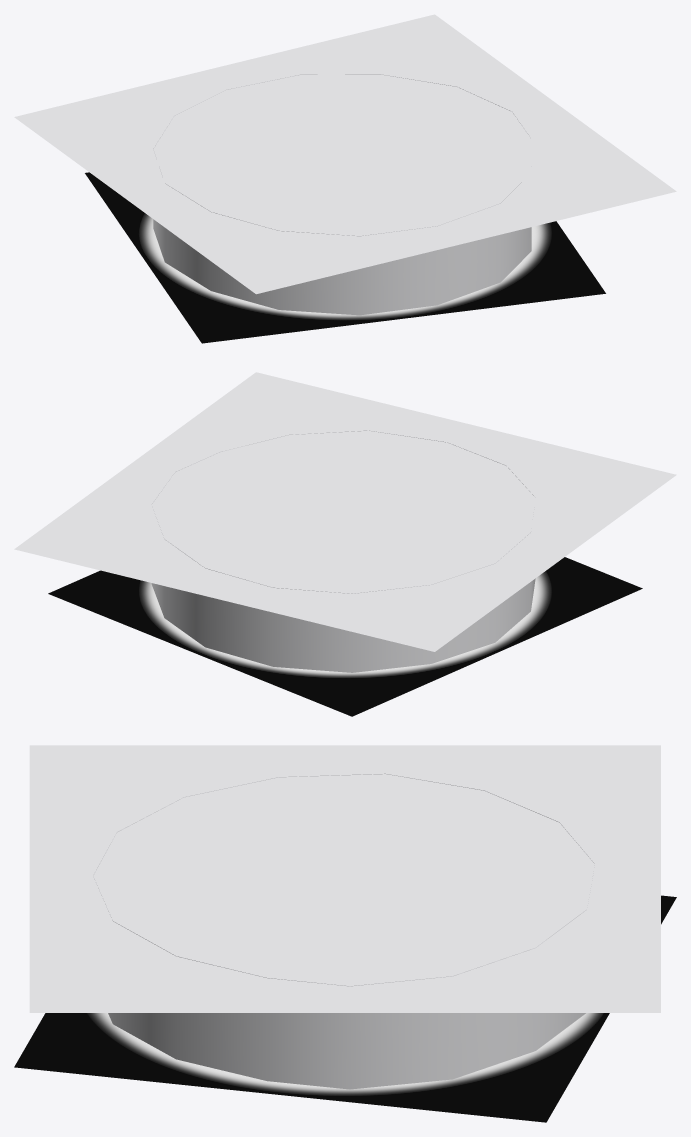
Rendered from Showroom_Environment.fbx.
The picture shows the model from 3 angles, top to bottom: view 1: azimuth 30°, elevation 25°; view 2: azimuth 150°, elevation 25°; view 3: azimuth 270°, elevation 25°; orthographic projection. The views are drawn at different scales.
Parts seen in each view (by area): view 1: Showroom_Ceiling, Showroom_Floor, Showroom_CurtainWall; view 2: Showroom_Ceiling, Showroom_Floor, Showroom_CurtainWall; view 3: Showroom_Ceiling, Showroom_CurtainWall, Showroom_Floor.
Part boxes in pixels (left/top/right/bottom): Showroom_Ceiling: left=14, top=14, right=676, bottom=294; Showroom_Floor: left=85, top=172, right=605, bottom=343; Showroom_CurtainWall: left=153, top=74, right=531, bottom=315; Showroom_Ceiling: left=14, top=372, right=676, bottom=651; Showroom_Floor: left=48, top=557, right=642, bottom=716; Showroom_CurtainWall: left=151, top=430, right=535, bottom=672; Showroom_Ceiling: left=29, top=745, right=660, bottom=1012; Showroom_CurtainWall: left=94, top=773, right=594, bottom=1089; Showroom_Floor: left=14, top=895, right=676, bottom=1122.
Size of the model in its own units: 1692 by 291 by 1689.
4 materials, 1 textured.
